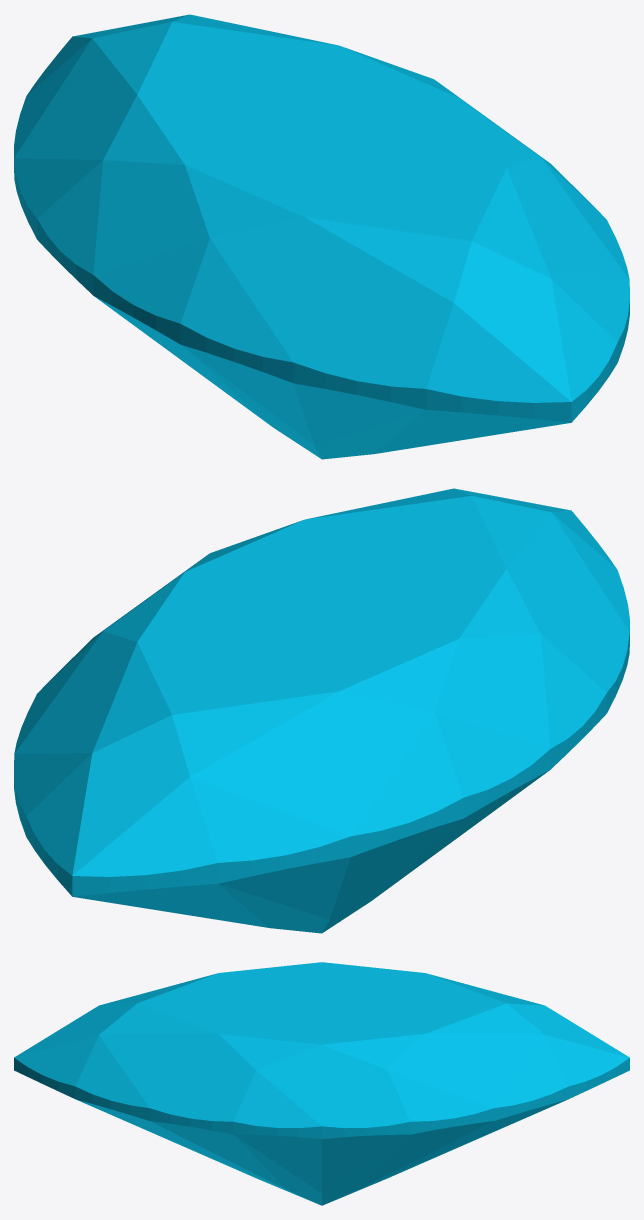
Rendered from Head_Hidden Halo_Marquise_0.50ct_Diamond.glb.
The picture shows the model from 3 angles, top to bottom: view 1: azimuth 30°, elevation 25°; view 2: azimuth 150°, elevation 25°; view 3: azimuth 270°, elevation 25°; orthographic projection. The views are drawn at different scales.
Size of the model in its own units: 0.00421 by 0.00288 by 0.00796.
